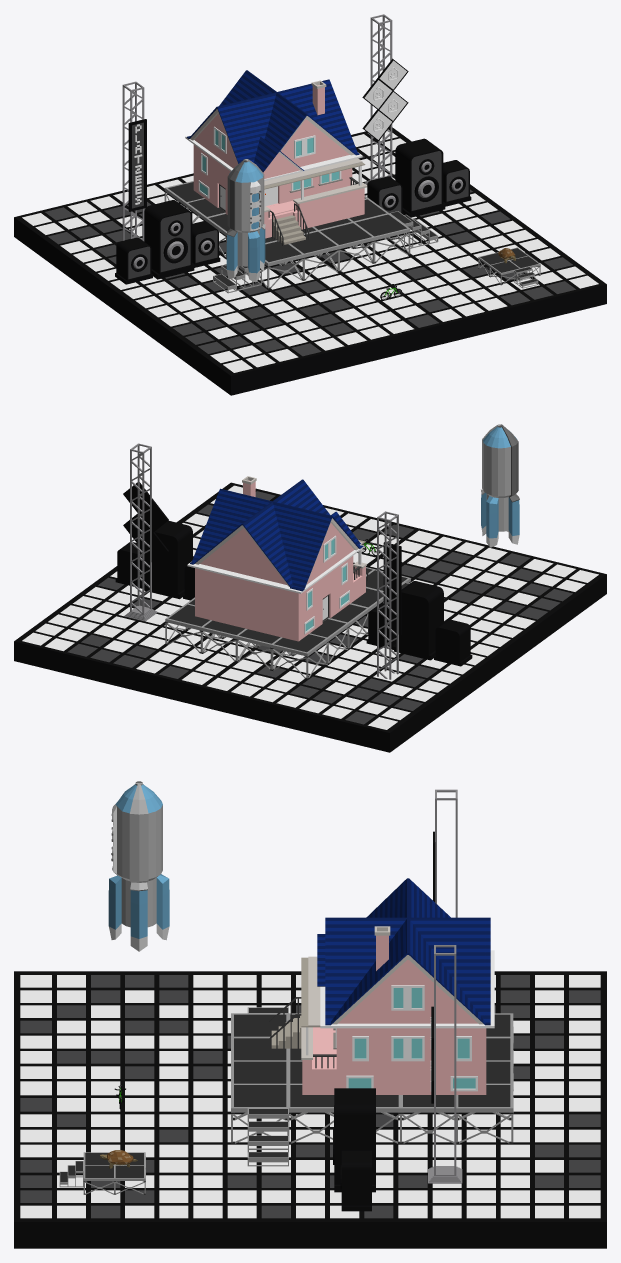
3 views of the same model, one above another, from view 1: azimuth 30°, elevation 25°; view 2: azimuth 150°, elevation 25°; view 3: azimuth 270°, elevation 25° (orthographic). The views are drawn at different scales.
Parts seen in each view (by area): view 1: Cube.008, Cube.313, OBJRANDOM_ROCKETSHIP; view 2: Cube.008, Cube.313, OBJRANDOM_ROCKETSHIP; view 3: Cube.008, Cube.313, OBJRANDOM_ROCKETSHIP.
Part boxes in pixels (left/top/right/bottom): Cube.008: left=14, top=14, right=606, bottom=395; Cube.313: left=185, top=70, right=367, bottom=245; OBJRANDOM_ROCKETSHIP: left=226, top=159, right=265, bottom=282; Cube.008: left=14, top=443, right=606, bottom=752; Cube.313: left=187, top=476, right=368, bottom=641; OBJRANDOM_ROCKETSHIP: left=481, top=424, right=519, bottom=547; Cube.008: left=14, top=789, right=606, bottom=1248; Cube.313: left=269, top=878, right=494, bottom=1094; OBJRANDOM_ROCKETSHIP: left=108, top=781, right=169, bottom=951.
Bounding box in the file's own units: 4000 × 2000 × 4000.
Materials: 41 (1 with a texture image).
